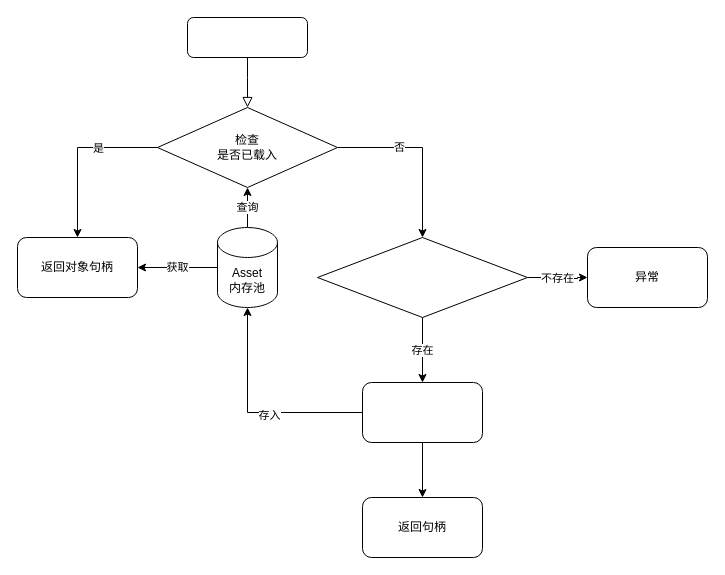
This 725x575 diagram has some shape labels left out. The centre of each missing label's shape, as x and y in pixels:
在FS上根据路径 寻找Asset: the point at 422,277
请求某Asset: the point at 247,37
读取各json 解析、产生对象: the point at 422,412
